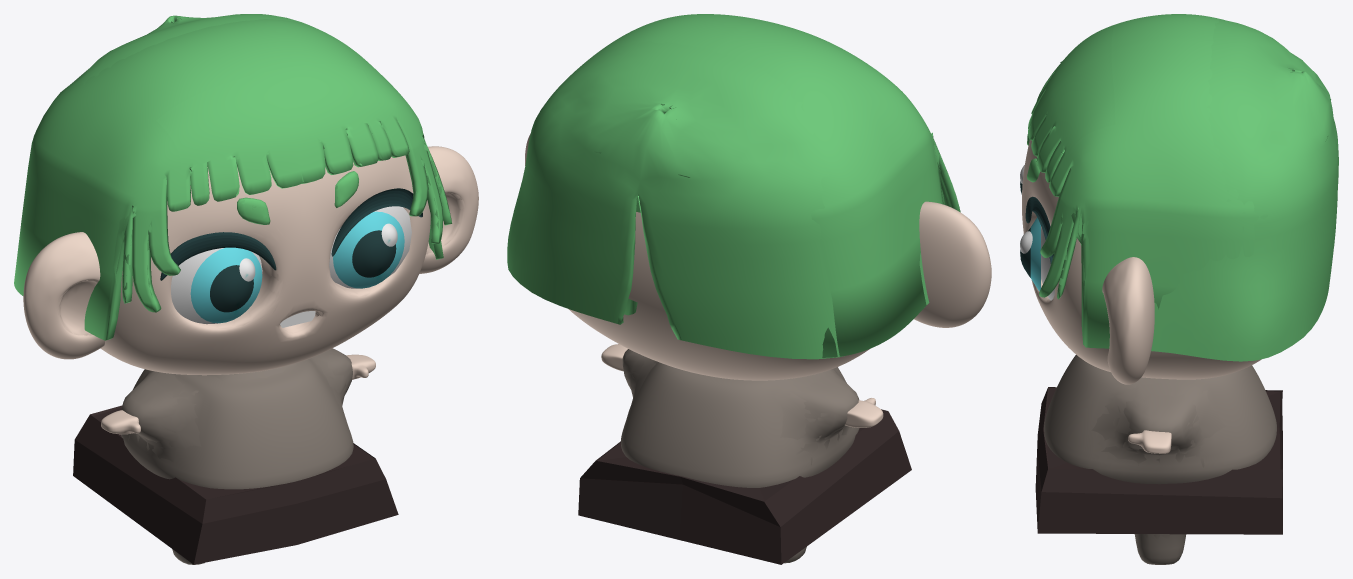
Rendered from neng3.glb.
3 renders of one model, left to right at view 1: azimuth 30°, elevation 25°; view 2: azimuth 150°, elevation 25°; view 3: azimuth 270°, elevation 25°, orthographic. The views are drawn at different scales.
Parts seen in each view (by area): view 1: Cube.006, Cube, Cube.005, Cube.004, Cube.003, Sphere.002, Sphere.003, Retopo_Cube.006, Retopo_Cube.005, Retopo_Cube, Plane.001, Sphere (+3 smaller); view 2: Retopo_Cube.006, Cube.006, Cube.004, Cube.005, Cube, Cube.003, Retopo_Cube.005, Cube.007; view 3: Cube.006, Retopo_Cube.006, Cube.005, Cube.004, Cube, Cube.003, Retopo_Cube.005, Sphere.003, Cube.007, Plane.001.
Boxes of the visible parts, <box> form: Cube.006: <box>14,19,452,340</box>; Cube: <box>100,155,430,375</box>; Cube.005: <box>120,348,353,564</box>; Cube.004: <box>73,405,398,564</box>; Cube.003: <box>23,146,478,359</box>; Sphere.002: <box>190,247,262,323</box>; Sphere.003: <box>333,211,404,288</box>; Retopo_Cube.006: <box>36,14,451,317</box>; Retopo_Cube.005: <box>128,355,346,462</box>; Retopo_Cube: <box>168,182,412,333</box>; Plane.001: <box>160,188,422,280</box>; Sphere: <box>171,206,411,324</box>; Retopo_Cube.006: <box>507,41,960,359</box>; Cube.006: <box>530,14,960,357</box>; Cube.004: <box>578,409,911,564</box>; Cube.005: <box>621,349,859,563</box>; Cube: <box>568,212,870,380</box>; Cube.003: <box>525,133,991,327</box>; Retopo_Cube.005: <box>627,359,849,465</box>; Cube.007: <box>601,344,883,427</box>; Cube.006: <box>1028,14,1267,348</box>; Retopo_Cube.006: <box>1036,20,1338,361</box>; Cube.005: <box>1044,355,1276,564</box>; Cube.004: <box>1035,387,1282,534</box>; Cube: <box>1022,140,1261,379</box>; Cube.003: <box>1102,257,1154,384</box>; Retopo_Cube.005: <box>1091,382,1226,540</box>; Sphere.003: <box>1020,217,1040,291</box>; Cube.007: <box>1128,430,1171,453</box>; Plane.001: <box>1025,196,1053,263</box>.
Size of the model in its own units: 2.74 by 2.93 by 1.69.
